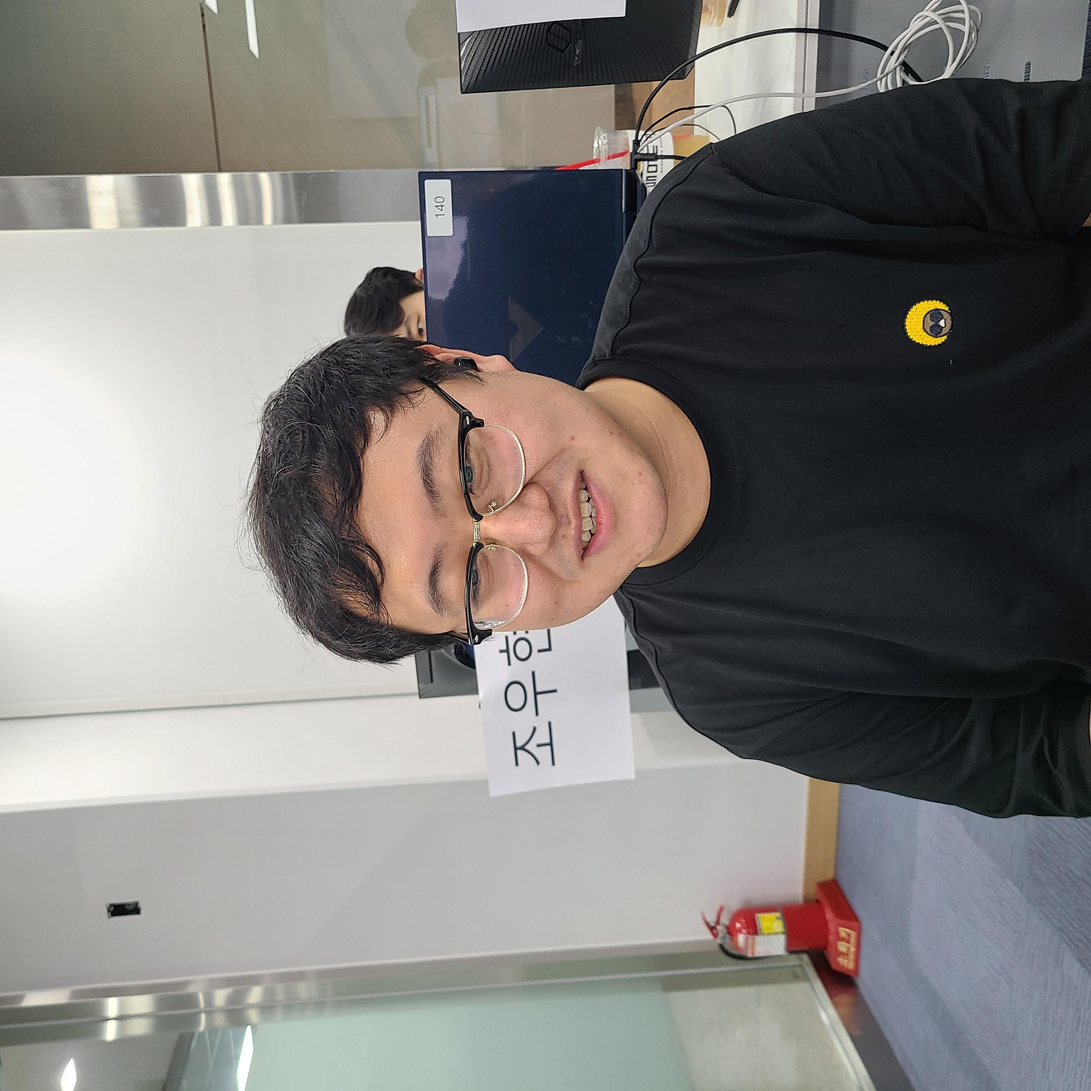earphone: (711, 446, 739, 484)
